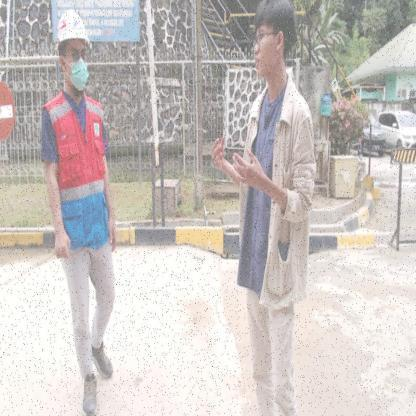boots: (89, 337, 115, 382), (77, 372, 101, 416)
helmet: (54, 8, 94, 50)
mask: (60, 58, 90, 92)
